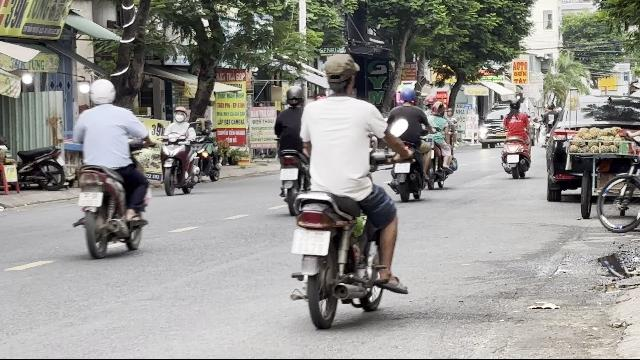helmet: (88, 78, 116, 106), (284, 85, 304, 107), (172, 105, 188, 122)
licenseplate: (292, 230, 328, 254), (77, 192, 101, 207), (280, 168, 298, 180)
motorcyclist: (282, 52, 406, 329), (69, 77, 153, 258), (272, 85, 312, 213), (158, 105, 198, 196)
nohelmet: (320, 54, 360, 96)
